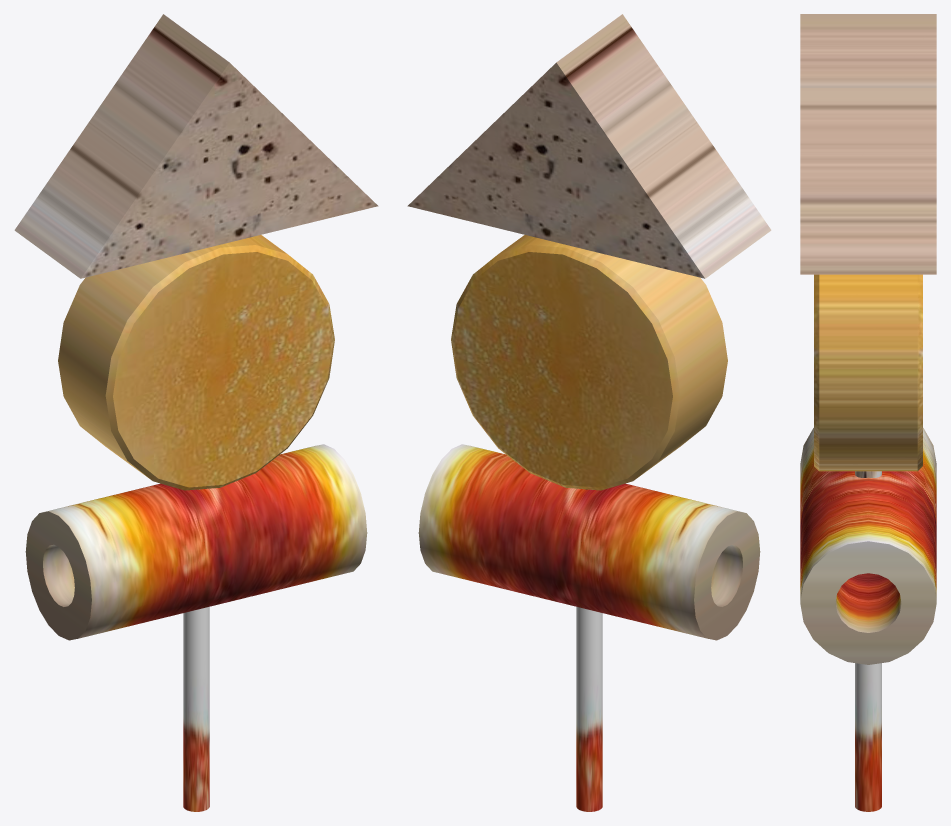
The model's file is Oden2.fbx.
The picture shows the model from 3 angles, left to right: view 1: azimuth 30°, elevation 25°; view 2: azimuth 150°, elevation 25°; view 3: azimuth 270°, elevation 25°; orthographic projection. The views are drawn at different scales.
Parts seen in each view (by area): view 1: polySurface2; view 2: polySurface2; view 3: polySurface2.
Part boxes in pixels (<box>): polySurface2: <box>14,14,378,811</box>; polySurface2: <box>407,14,771,811</box>; polySurface2: <box>800,14,936,811</box>.
Size of the model in its own units: 2.6 by 6.4 by 1.
